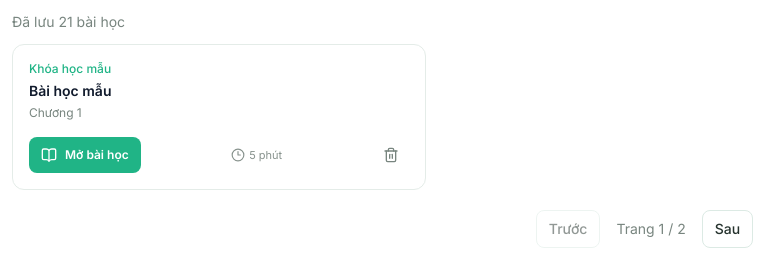
Test case: SavedLessonsView › moves back one page when removing the last item on a page
Expected: the link "Mở bài học" is shown, [29,137,141,173]
Click the button "Sau": click(727, 229) [702,210,753,248]
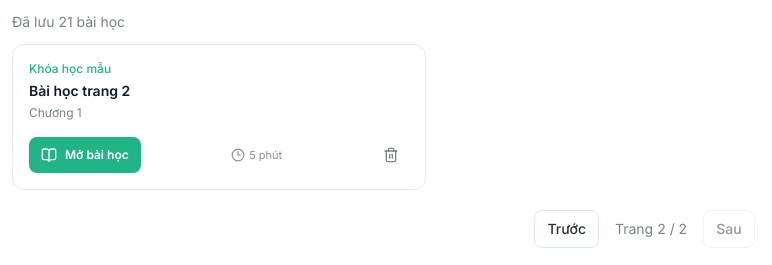
Result: the text "Trang 2 / 2" is shown at [615,219,687,239]
Result: the heading "Bài học trang 2" is shown at [29,82,130,99]
Click the button named "Bỏ lưu Bài học trang 2": click(391, 155) [373,137,409,173]
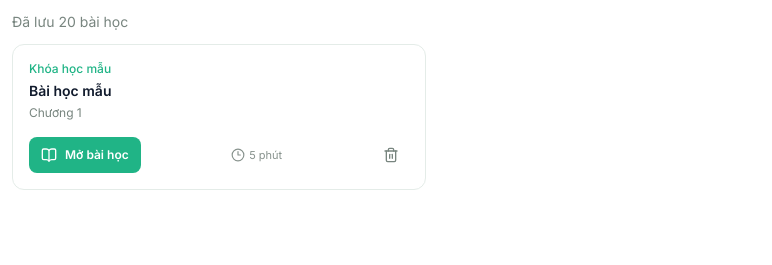
Result: the text "Đã lưu 20 bài học" is shown at [12,13,128,30]
Result: the button "Sau" is gone
